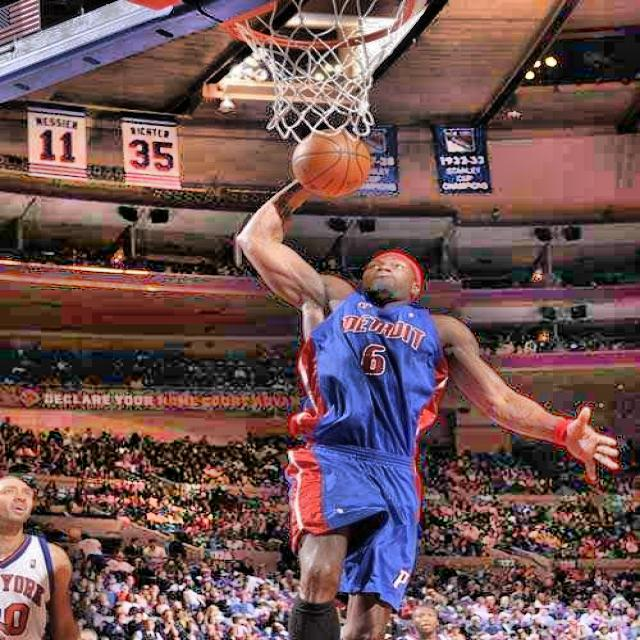board: (291, 131, 372, 198)
